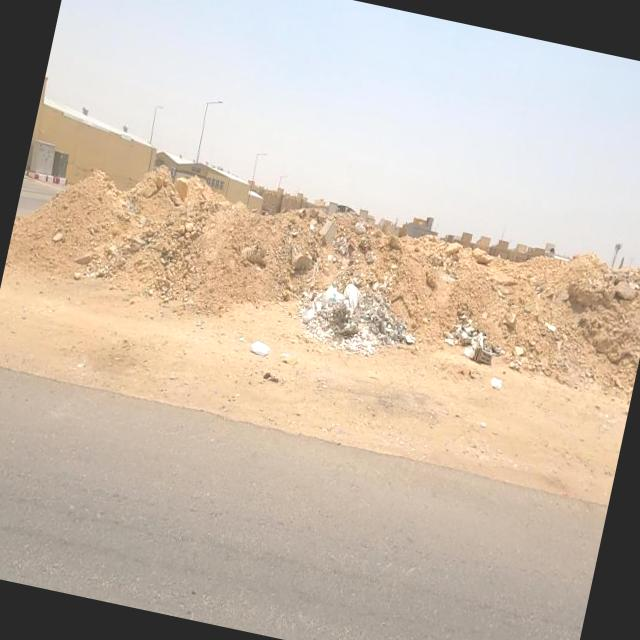debris: (304, 226, 470, 412), (256, 219, 394, 400), (406, 265, 538, 418), (280, 184, 375, 294), (217, 303, 317, 403), (323, 185, 404, 283), (456, 336, 534, 415), (518, 286, 584, 368)
